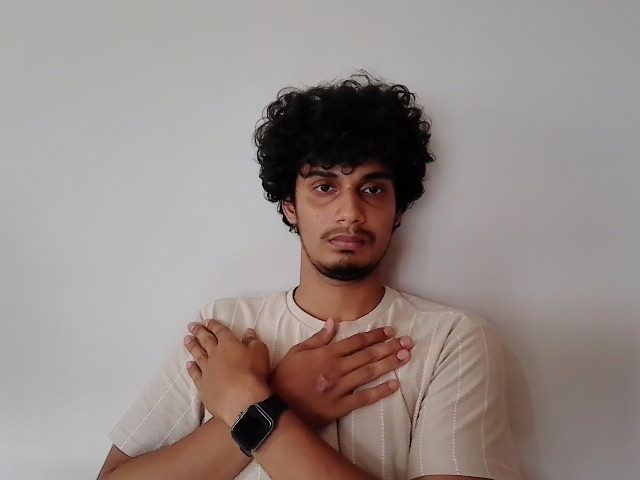relaxing: (185, 321, 414, 426)
